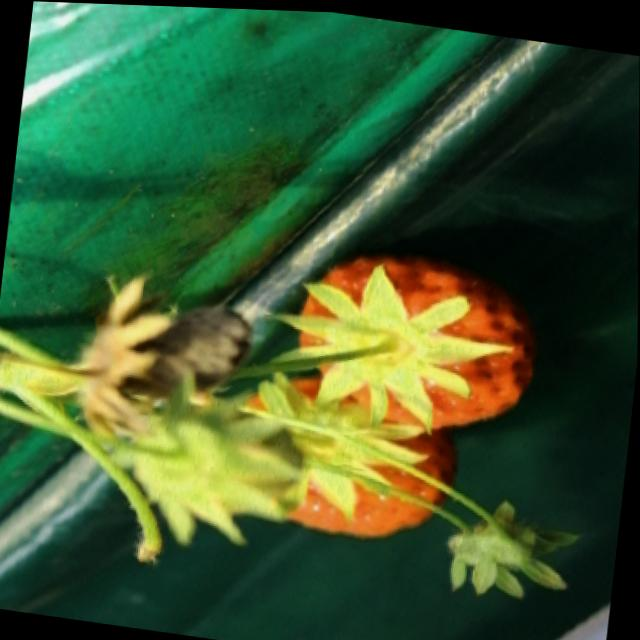Gray Mold: (74, 269, 253, 442)
